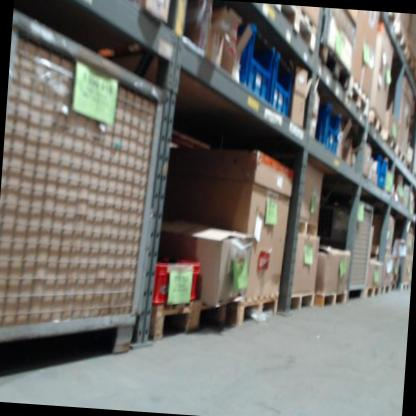pallet: (148, 289, 235, 351), (264, 4, 321, 56), (231, 289, 278, 337), (320, 45, 353, 94), (344, 74, 373, 124), (312, 285, 348, 313), (285, 289, 319, 315), (396, 35, 416, 69), (368, 107, 388, 139), (379, 16, 403, 37), (386, 131, 400, 157), (364, 282, 383, 301), (382, 280, 399, 299), (396, 146, 410, 169), (301, 219, 321, 235)
small_load_carrier: (230, 19, 275, 110), (149, 254, 205, 311), (268, 51, 298, 120), (310, 99, 345, 156), (366, 152, 389, 187)
stillage: (0, 2, 174, 372), (320, 198, 377, 303)
